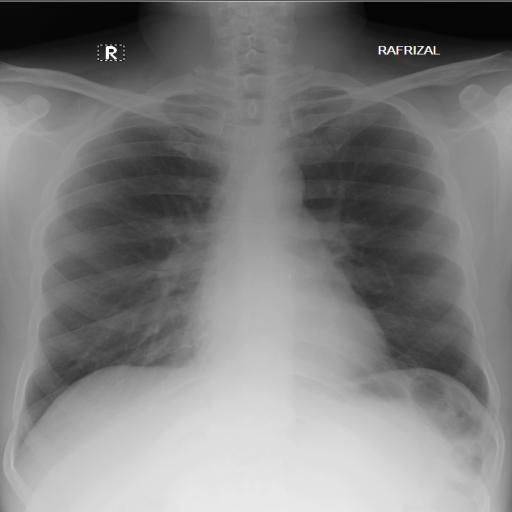normal: (10, 38, 499, 446)
